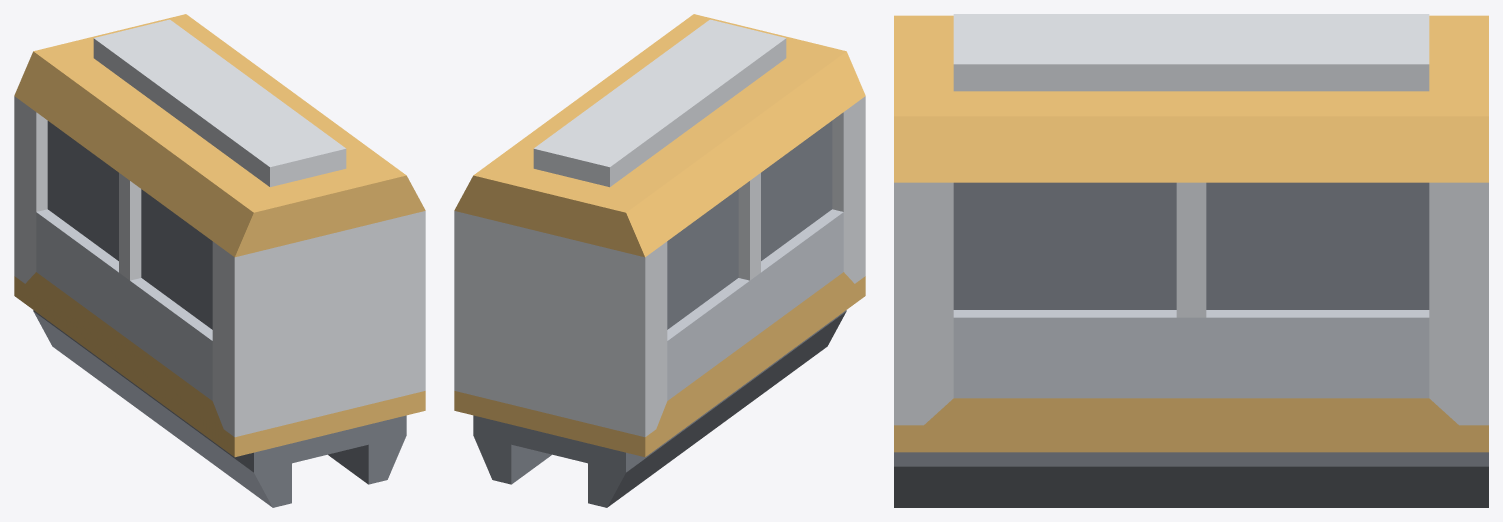
The model's file is monorail_trainPassenger.glb.
The picture shows the model from 3 angles, left to right: view 1: azimuth 30°, elevation 25°; view 2: azimuth 150°, elevation 25°; view 3: azimuth 270°, elevation 25°; orthographic projection. The views are drawn at different scales.
Parts seen in each view (by area): view 1: monorail_trainPassenger; view 2: monorail_trainPassenger; view 3: monorail_trainPassenger.
Part boxes in pixels (<box>): monorail_trainPassenger: <box>14,14,425,507</box>; monorail_trainPassenger: <box>454,14,865,507</box>; monorail_trainPassenger: <box>894,14,1488,507</box>.
Bounding box in the file's own units: 0.5 × 0.8 × 1.
